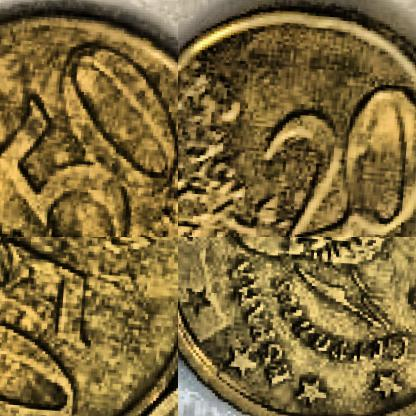coin: (178, 0, 415, 236), (178, 237, 415, 415), (0, 0, 177, 236), (0, 237, 177, 415)
